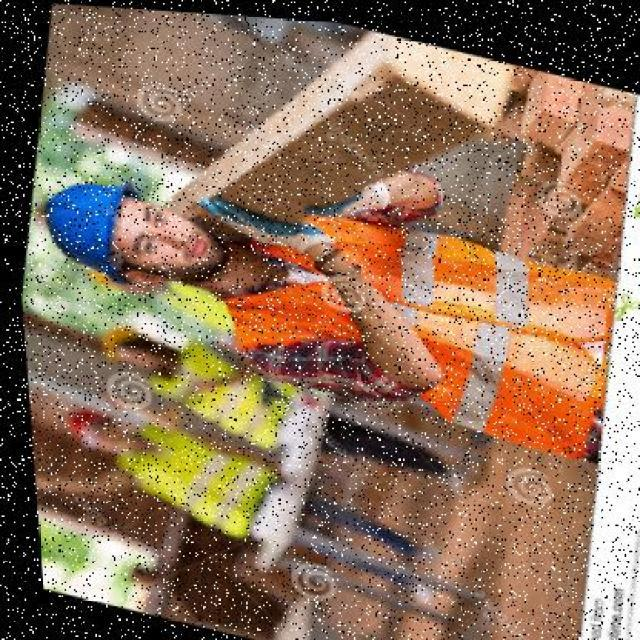helmet: (25, 154, 153, 292)
vest: (182, 171, 583, 421)
